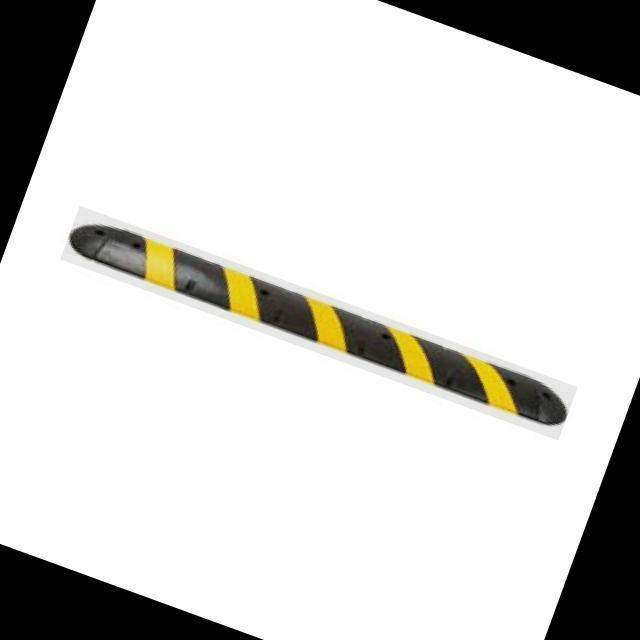speedbreaker: (60, 206, 578, 441)
